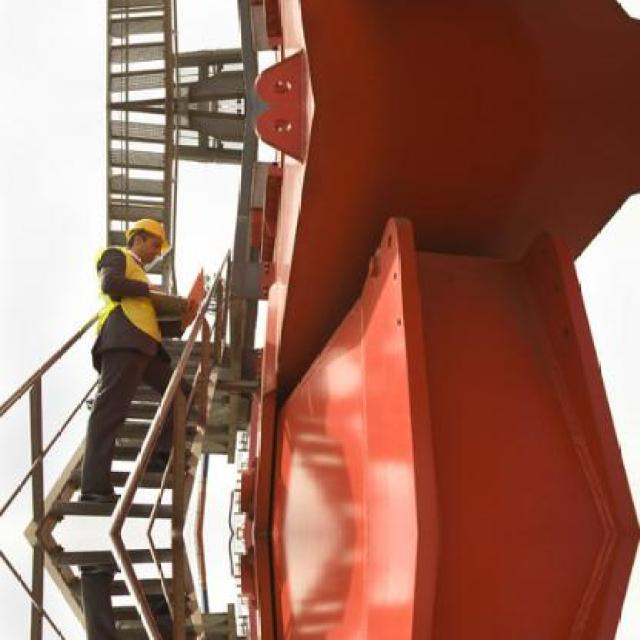helmet: (124, 208, 170, 259)
